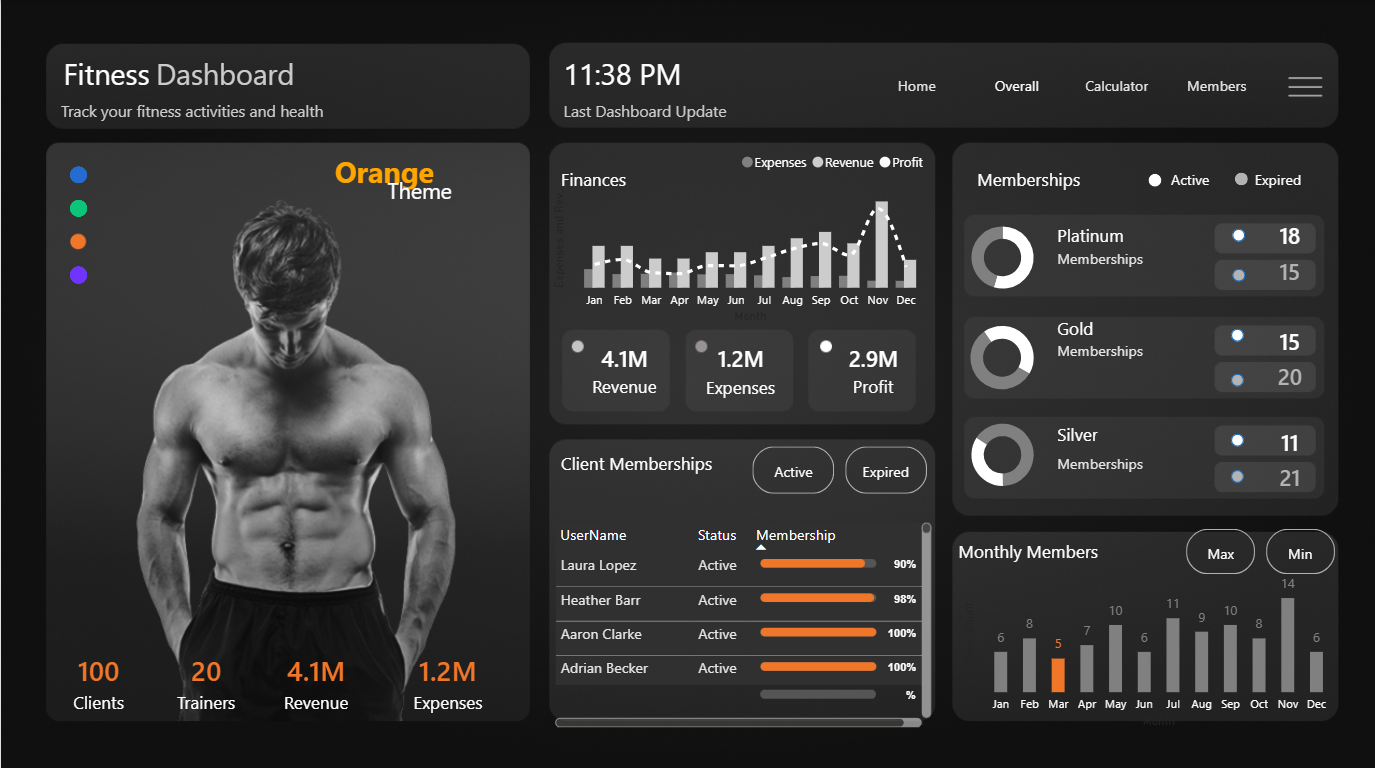

What the dashboard file says about the page in this screenshot:
{"tool":"powerbi","page":{"name":"Overall","canvas":[1280,720],"ordinal":1},"visuals":[{"type":"cardVisual","fields":{"Data":["_Measure.User_Count"]},"box":[31.6,590.1,119.4,91.9],"z":0},{"type":"cardVisual","fields":{"Data":["Count(Users.Trainer Name)"]},"box":[131.7,588.7,119.4,93.3],"z":1000},{"type":"cardVisual","fields":{"Data":["_Measure.Revenue"]},"box":[233.3,590.1,119.4,91.9],"z":2000},{"type":"cardVisual","fields":{"Data":["_Measure.Expenses"]},"box":[352.7,590.1,127.6,91.9],"z":3000},{"type":"cardVisual","fields":{"Data":["_Measure.Revenue"]},"box":[521.4,306,118,78.2],"z":4000},{"type":"cardVisual","fields":{"Data":["_Measure.Profit"]},"box":[752,306,118,78.2],"z":5000},{"type":"cardVisual","fields":{"Data":["_Measure.Expenses"]},"box":[624.4,300.5,127.6,90.6],"z":6000},{"type":"lineClusteredColumnComboChart","fields":{"Y":["_Measure.Expenses","_Measure.Revenue"],"Y2":["_Measure.Profit"],"Category":["Calender.Month"]},"box":[509.1,131.7,358.1,174.3],"z":7000},{"type":"shape","box":[521.4,146.8,149.6,39.8],"z":8000},{"type":"clusteredColumnChart","fields":{"Category":["Calender.Month"],"Y":["_Measure.User_Count"]},"box":[890.6,518.7,355.4,163.3],"z":9000},{"type":"shape","box":[890.6,492.6,149.6,39.8],"z":10000},{"type":"advancedSlicerVisual","fields":{"Values":["Min_Max_Switch.Type"]},"box":[1097.8,487.1,148.2,52.1],"z":11000},{"type":"tableEx","fields":{"Values":["Users.UserName","Users.Status","_Measure.SVG_BarChart1"]},"box":[509.1,481.6,360.9,200.3],"z":12000},{"type":"advancedSlicerVisual","fields":{"Values":["Users.Status"]},"box":[694.3,410.3,172.9,54.9],"z":13000},{"type":"shape","box":[521.4,410.3,149.6,39.8],"z":14000},{"type":"shape","box":[982.5,199,149.6,39.8],"z":15000},{"type":"shape","box":[982.5,285.4,149.6,39.8],"z":16000},{"type":"shape","box":[982.5,384.2,149.6,39.8],"z":17000},{"type":"shape","box":[982.5,219.6,149.6,39.8],"z":18000},{"type":"shape","box":[982.5,306,149.6,39.8],"z":19000},{"type":"shape","box":[982.5,410.3,149.6,39.8],"z":20000},{"type":"donutChart","fields":{"Y":["_Measure.User_Gold"],"Category":["Users.Status"]},"box":[889.2,285.4,83.7,96.1],"z":21000},{"type":"donutChart","fields":{"Y":["_Measure.User_Platinum"],"Category":["Users.Status"]},"box":[890.6,196.2,82.3,86.4],"z":22000},{"type":"donutChart","fields":{"Y":["_Measure.User_Silver"],"Category":["Users.Status"]},"box":[890.6,381.5,82.3,83.7],"z":23000},{"type":"cardVisual","fields":{"Data":["_Measure.Platinum_Expire"]},"box":[1145.8,219.6,107,63.1],"z":24000},{"type":"cardVisual","fields":{"Data":["_Measure.Platinum_Active"]},"box":[1145.4,186.6,107,63.1],"z":25000},{"type":"cardVisual","fields":{"Data":["_Measure.Gold_Expire"]},"box":[1145.8,317,107,63.1],"z":26000},{"type":"cardVisual","fields":{"Data":["_Measure.Gold_Active"]},"box":[1145.4,284.4,107,63.1],"z":27000},{"type":"cardVisual","fields":{"Data":["_Measure.Silver_Expire"]},"box":[1145.8,411.7,107,63.1],"z":28000},{"type":"cardVisual","fields":{"Data":["_Measure.Silver_Active"]},"box":[1145.4,378.9,107,63.1],"z":29000},{"type":"shape","box":[1145.8,212.7,12,12],"z":30000},{"type":"shape","box":[1144.4,306,12,12],"z":31000},{"type":"shape","box":[1144.4,403.4,12,12],"z":32000},{"type":"shape","box":[1145.8,249.7,12.3,12],"z":33000},{"type":"shape","box":[1144.4,347.2,12,12],"z":34000},{"type":"shape","box":[1144.4,437.7,12,12],"z":35000},{"type":"shape","box":[908.4,146.8,149.6,39.8],"z":36000},{"type":"shape","box":[1067.6,161.9,12,12],"z":37000},{"type":"shape","box":[1147.2,160.5,12.3,12],"z":38000},{"type":"shape","box":[1088.2,146.8,43.9,39.8],"z":39000},{"type":"shape","box":[1166.4,146.8,67.2,39.8],"z":40000},{"type":"shape","box":[57.6,48,149.6,39.8],"z":41000},{"type":"shape","box":[144.1,48,149.6,39.8],"z":42000},{"type":"shape","box":[56.3,87.8,318.4,30.2],"z":43000},{"type":"image","box":[1193.8,60.4,39.8,42.5],"z":44000},{"type":"shape","box":[522.8,48,116.6,39.8],"z":45000},{"type":"shape","box":[522.8,87.8,171.5,30.2],"z":46000},{"type":"pageNavigator","box":[810.5,55.8,365.1,47.7],"z":47000},{"type":"advancedSlicerVisual","fields":{"Values":["ColorCodes.Color"],"Label":["Min(ColorCodes.Icon)"]},"box":[53.5,146.5,37.2,126.7],"z":48000},{"type":"shape","box":[310.5,131.4,95.3,54.7],"z":49000},{"type":"shape","box":[359.3,157,149.6,39.8],"z":50000}]}

Visuals, with their boxes in screenshot pixels (x1, y1, x2, y2), scaled from the page's 1280x720 canvas onto the 1375x768 screenshot:
cardVisual - _Measure.User_Count: x1=34, y1=629, x2=162, y2=727
cardVisual - Count(Users.Trainer Name): x1=141, y1=628, x2=270, y2=727
cardVisual - _Measure.Revenue: x1=251, y1=629, x2=379, y2=727
cardVisual - _Measure.Expenses: x1=379, y1=629, x2=516, y2=727
cardVisual - _Measure.Revenue: x1=560, y1=326, x2=687, y2=410
cardVisual - _Measure.Profit: x1=808, y1=326, x2=935, y2=410
cardVisual - _Measure.Expenses: x1=671, y1=321, x2=808, y2=417
lineClusteredColumnComboChart - _Measure.Expenses x _Measure.Revenue: x1=547, y1=140, x2=932, y2=326
shape: x1=560, y1=157, x2=721, y2=199
clusteredColumnChart - Calender.Month x _Measure.User_Count: x1=957, y1=553, x2=1338, y2=727
shape: x1=957, y1=525, x2=1117, y2=568
advancedSlicerVisual - Min_Max_Switch.Type: x1=1179, y1=520, x2=1338, y2=575
tableEx - Users.UserName x Users.Status: x1=547, y1=514, x2=935, y2=727
advancedSlicerVisual - Users.Status: x1=746, y1=438, x2=932, y2=496
shape: x1=560, y1=438, x2=721, y2=480
shape: x1=1055, y1=212, x2=1216, y2=255
shape: x1=1055, y1=304, x2=1216, y2=347
shape: x1=1055, y1=410, x2=1216, y2=452
shape: x1=1055, y1=234, x2=1216, y2=277
shape: x1=1055, y1=326, x2=1216, y2=369
shape: x1=1055, y1=438, x2=1216, y2=480
donutChart - _Measure.User_Gold x Users.Status: x1=955, y1=304, x2=1045, y2=407
donutChart - _Measure.User_Platinum x Users.Status: x1=957, y1=209, x2=1045, y2=301
donutChart - _Measure.User_Silver x Users.Status: x1=957, y1=407, x2=1045, y2=496
cardVisual - _Measure.Platinum_Expire: x1=1231, y1=234, x2=1346, y2=302
cardVisual - _Measure.Platinum_Active: x1=1230, y1=199, x2=1345, y2=266
cardVisual - _Measure.Gold_Expire: x1=1231, y1=338, x2=1346, y2=405
cardVisual - _Measure.Gold_Active: x1=1230, y1=303, x2=1345, y2=371
cardVisual - _Measure.Silver_Expire: x1=1231, y1=439, x2=1346, y2=506
cardVisual - _Measure.Silver_Active: x1=1230, y1=404, x2=1345, y2=471
shape: x1=1231, y1=227, x2=1244, y2=240
shape: x1=1229, y1=326, x2=1242, y2=339
shape: x1=1229, y1=430, x2=1242, y2=443
shape: x1=1231, y1=266, x2=1244, y2=279
shape: x1=1229, y1=370, x2=1242, y2=383
shape: x1=1229, y1=467, x2=1242, y2=480
shape: x1=976, y1=157, x2=1137, y2=199
shape: x1=1147, y1=173, x2=1160, y2=185
shape: x1=1232, y1=171, x2=1246, y2=184
shape: x1=1169, y1=157, x2=1216, y2=199
shape: x1=1253, y1=157, x2=1325, y2=199
shape: x1=62, y1=51, x2=223, y2=94
shape: x1=155, y1=51, x2=315, y2=94
shape: x1=60, y1=94, x2=403, y2=126
image: x1=1282, y1=64, x2=1325, y2=110
shape: x1=562, y1=51, x2=687, y2=94
shape: x1=562, y1=94, x2=746, y2=126
pageNavigator: x1=871, y1=60, x2=1263, y2=110
advancedSlicerVisual - ColorCodes.Color x Min(ColorCodes.Icon): x1=57, y1=156, x2=97, y2=291
shape: x1=334, y1=140, x2=436, y2=199
shape: x1=386, y1=167, x2=547, y2=210
